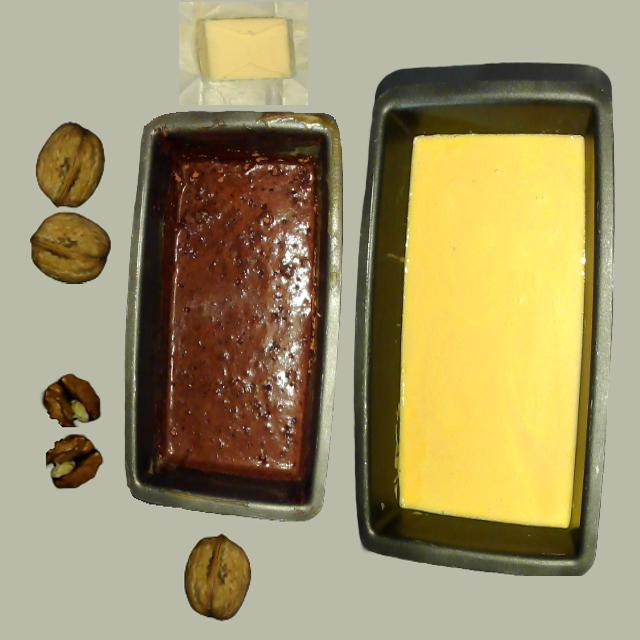Walnut: (36, 123, 104, 208), (184, 534, 251, 620), (29, 212, 108, 283)
